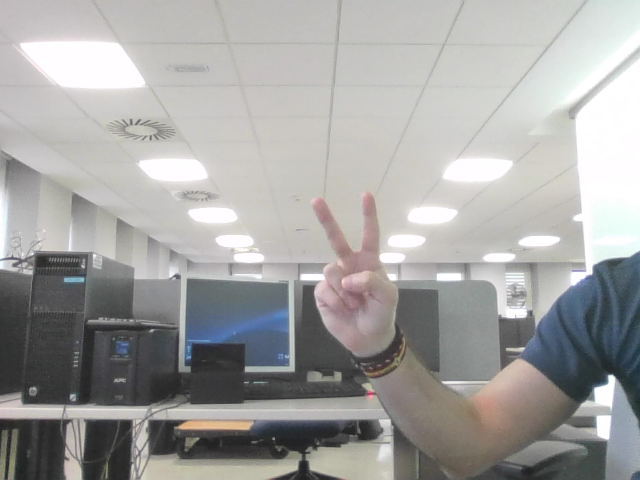2Dedos: (321, 205, 384, 313)
